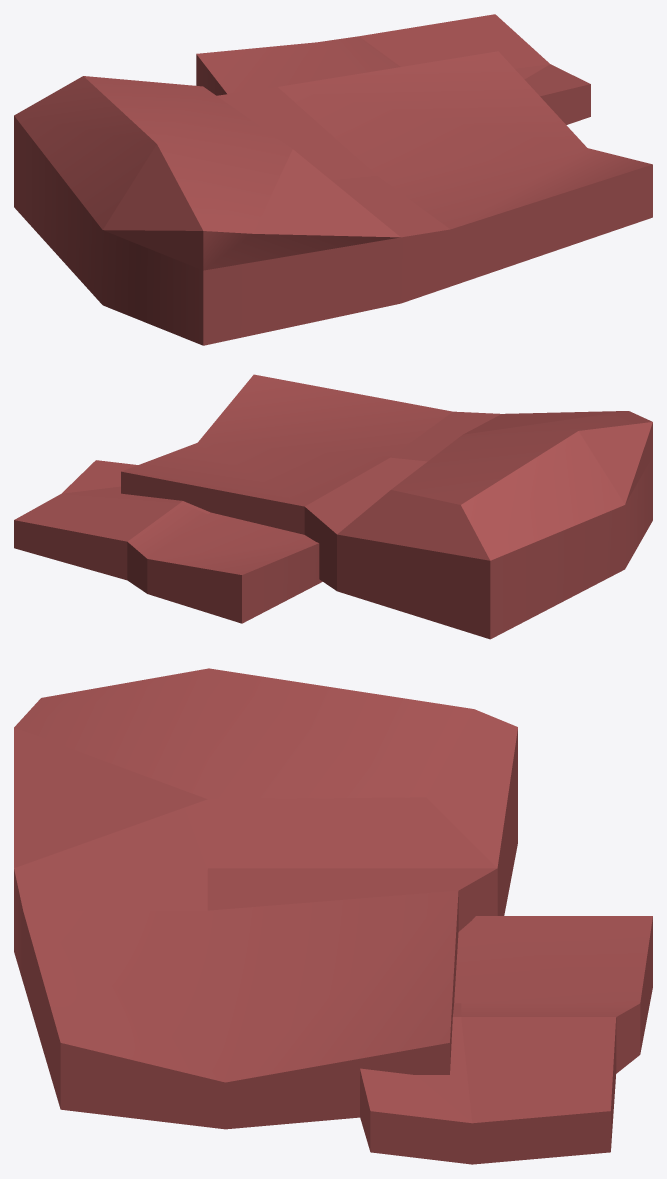
Rendered from SM_Flat_Stone_04.fbx.
3 views of the same model, one above another, from view 1: azimuth 30°, elevation 25°; view 2: azimuth 150°, elevation 25°; view 3: azimuth 270°, elevation 25° (orthographic). The views are drawn at different scales.
Parts seen in each view (by area): view 1: Box068; view 2: Box068; view 3: Box068.
Boxes of the visible parts, x1,y1,x2,y2 form: Box068: (14, 14, 652, 345); Box068: (14, 374, 652, 639); Box068: (14, 668, 652, 1164).
Bounding box in the file's own units: 103 × 27.36 × 82.35.
